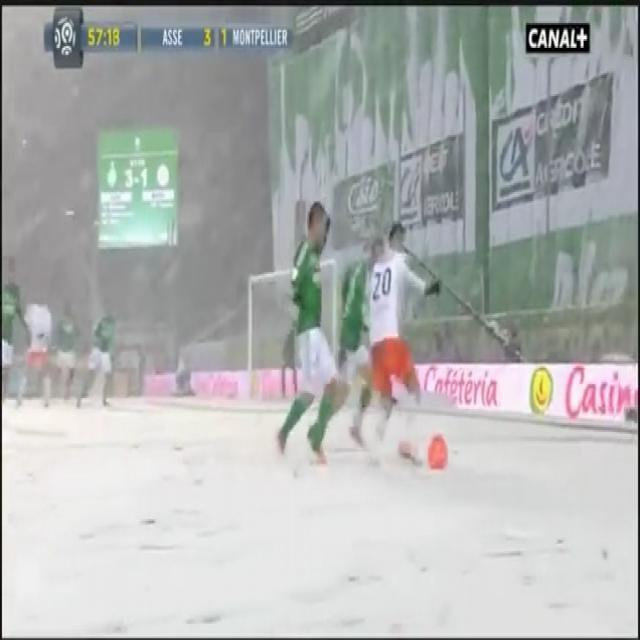ball: (427, 428, 452, 473)
player: (280, 169, 351, 473), (369, 230, 424, 453), (337, 199, 382, 456)
